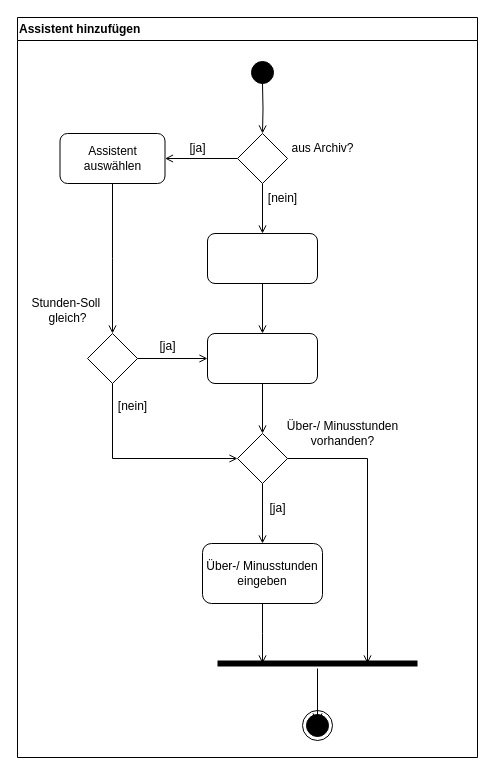
Image size: 495x775. Some labels were removed from this diagram. The shapes that lost their labels are listed below. From the top down, each one's box as (x1, y1, x2, y2) in pixels, then its label:
(206, 232, 318, 284): Namen eingeben
(206, 332, 318, 384): Stunden-Soll eingeben
